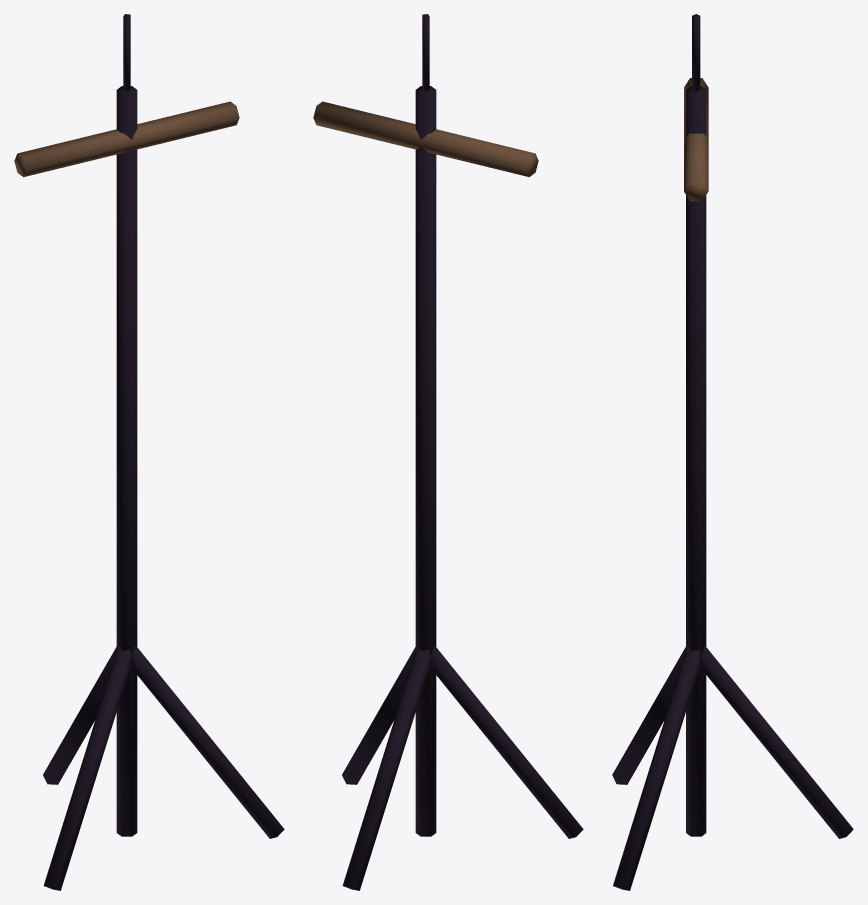
The model's file is perch.glb.
The picture shows the model from 3 angles, left to right: view 1: azimuth 30°, elevation 25°; view 2: azimuth 150°, elevation 25°; view 3: azimuth 270°, elevation 25°; orthographic projection.
Parts seen in each view (by area): view 1: perch; view 2: perch; view 3: perch.
Part boxes in pixels (bbox=[...]): perch: bbox=[14, 14, 284, 890]; perch: bbox=[313, 14, 583, 890]; perch: bbox=[612, 14, 853, 890].
Size of the model in its own units: 0.4039 by 1.33 by 0.3539.
